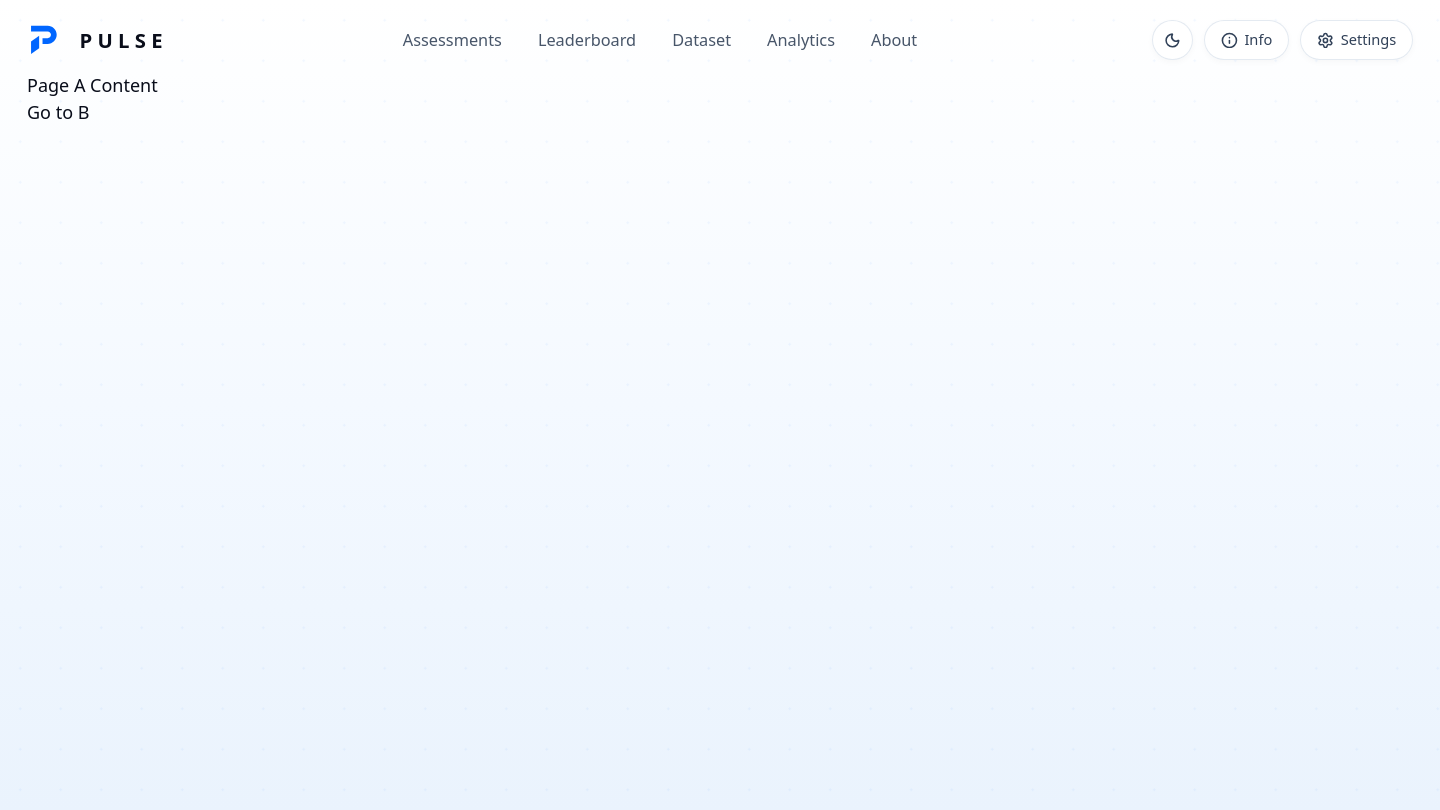
Test: Page Transition & Surface Continuity Verification › does not unmount to an empty opacity:0 state during page transitions
This screenshot has width=1440, height=810.
Expected: the text "Page A Content" is shown, [27,73,158,97]
Note: Trigger navigation
Click the link "Go to B".
click(58, 112)  # box [27,100,90,124]
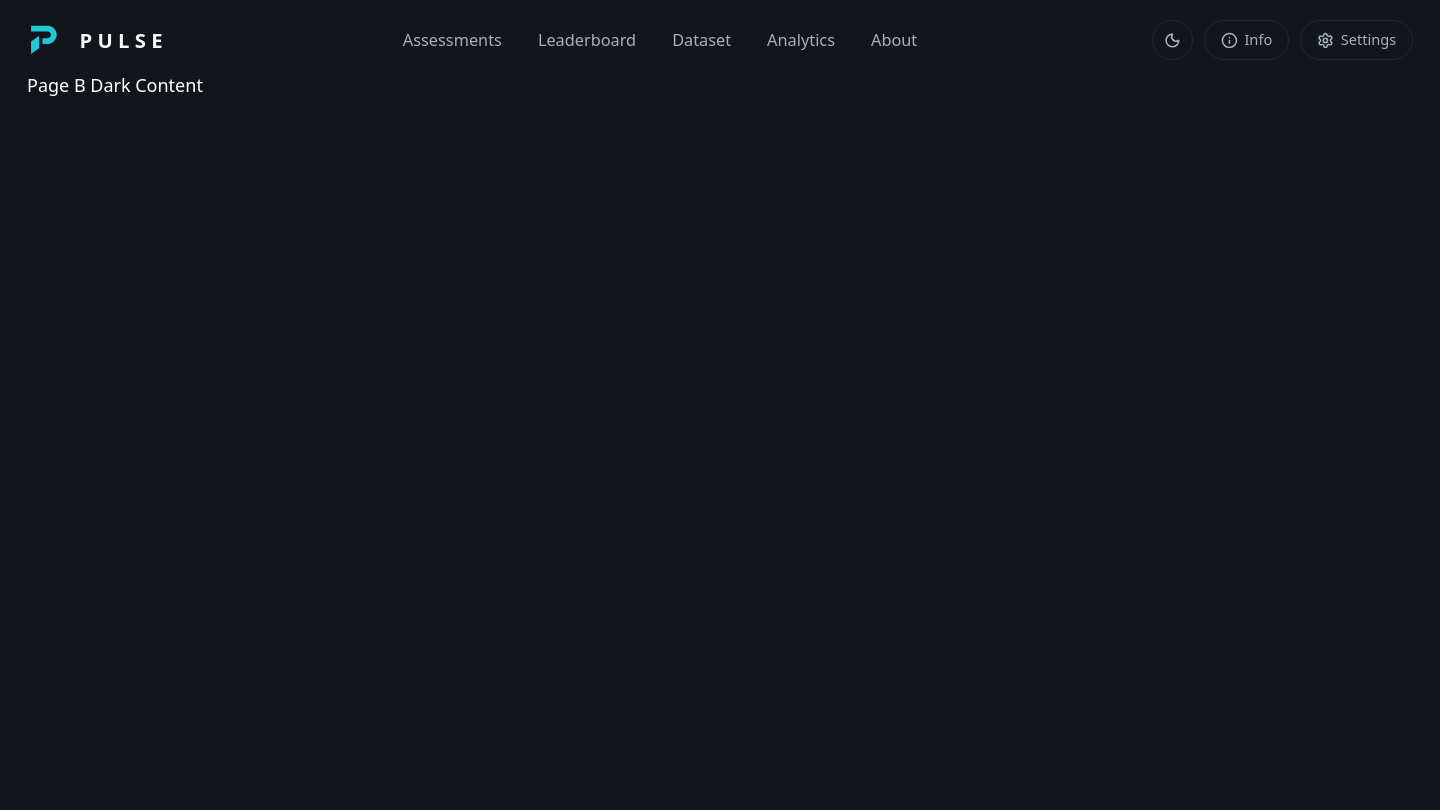
Expected: the text "Page B Dark Content" is shown, [27,73,203,97]
